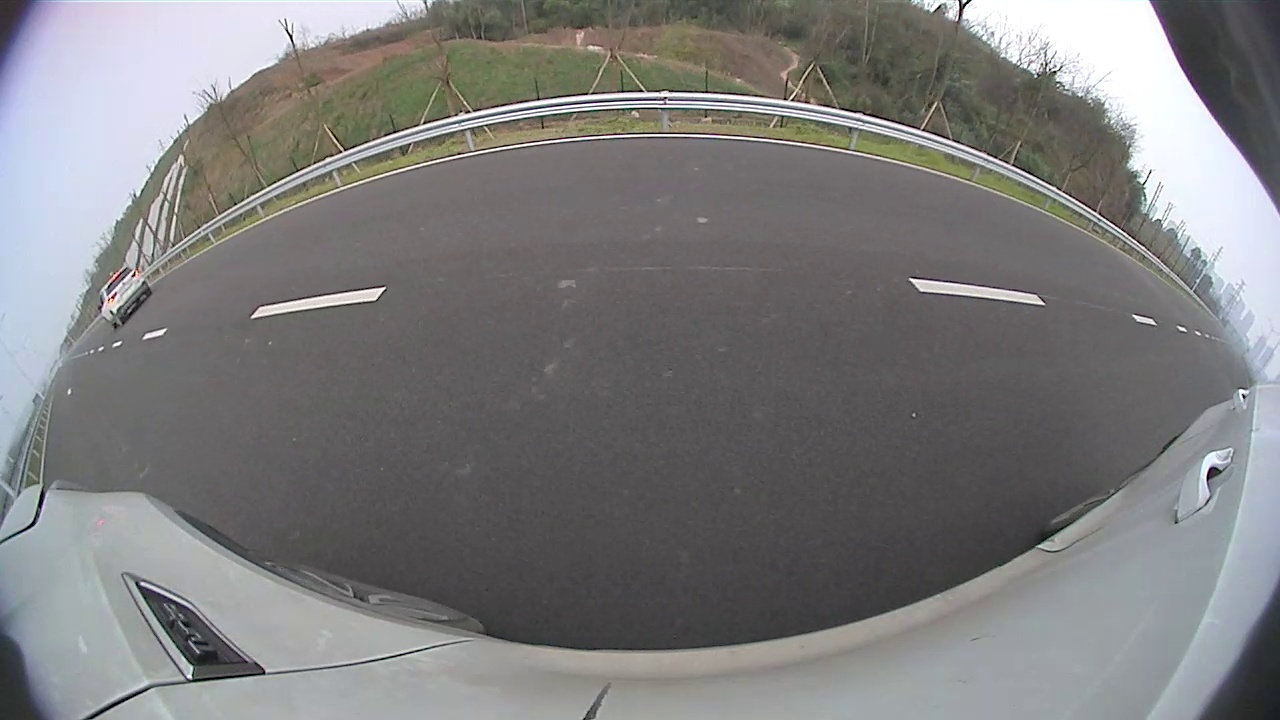car: (730, 147, 828, 207)
front: (732, 174, 743, 194)
rear: (757, 178, 774, 203)
